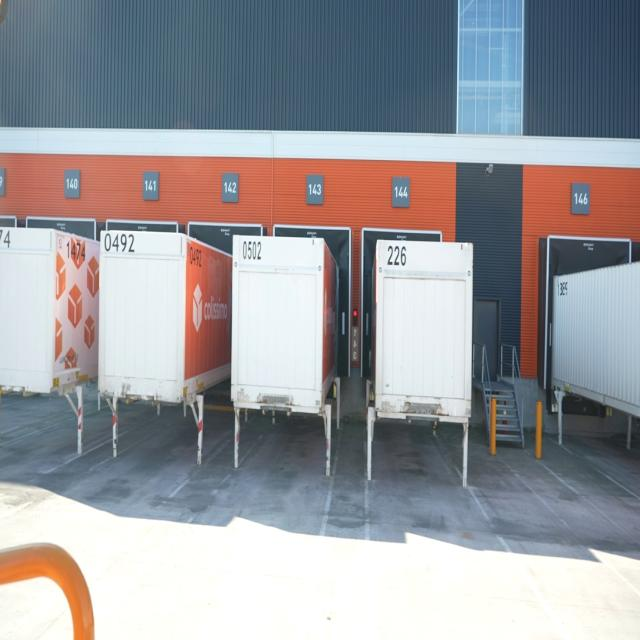Code: (102, 227, 138, 256), (63, 235, 91, 266), (239, 238, 267, 267), (386, 244, 409, 270), (186, 243, 204, 268)
